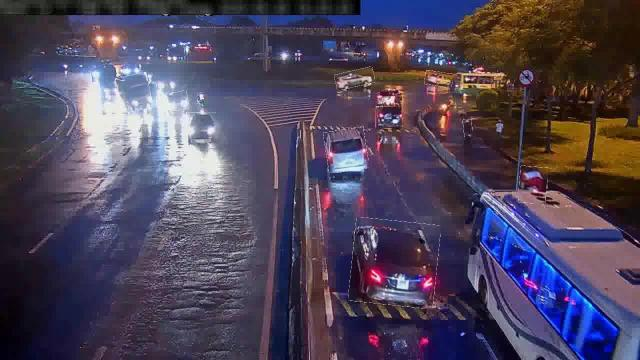Bike: (518, 166, 548, 204), (463, 120, 472, 140)
Car: (349, 219, 438, 307), (324, 128, 368, 172), (335, 68, 375, 88), (186, 113, 216, 139), (376, 106, 402, 128), (376, 87, 404, 105), (425, 71, 453, 87), (168, 91, 188, 111)
Truck: (117, 74, 151, 112)
